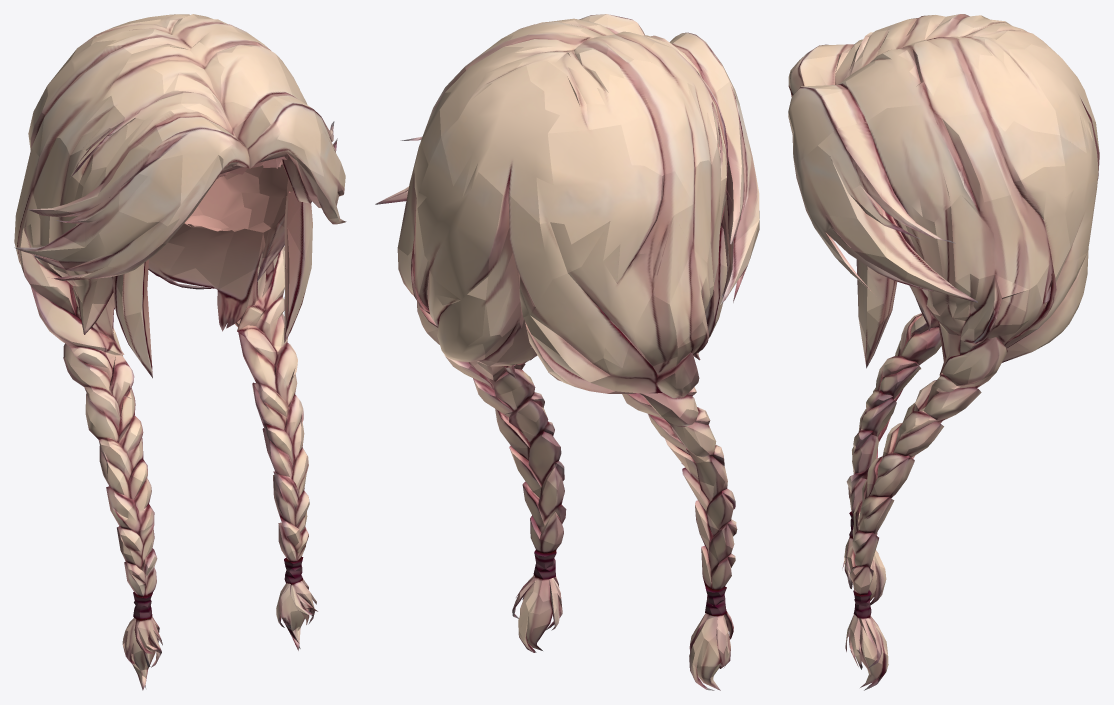
File: fennal_f-deux-tresses.glb
3 renders of one model, left to right at view 1: azimuth 30°, elevation 25°; view 2: azimuth 150°, elevation 25°; view 3: azimuth 270°, elevation 25°, orthographic. The views are drawn at different scales.
Visible parts, largest first — view 1: geometry_0; view 2: geometry_0; view 3: geometry_0.
Boxes of the visible parts, left/top/right/bottom form: geometry_0: left=14, top=14, right=346, bottom=690; geometry_0: left=375, top=14, right=759, bottom=690; geometry_0: left=788, top=14, right=1099, bottom=690.
Bounding box in the file's own units: 1.04 × 1.9 × 0.8667.
Materials: 1 (1 with a texture image).
